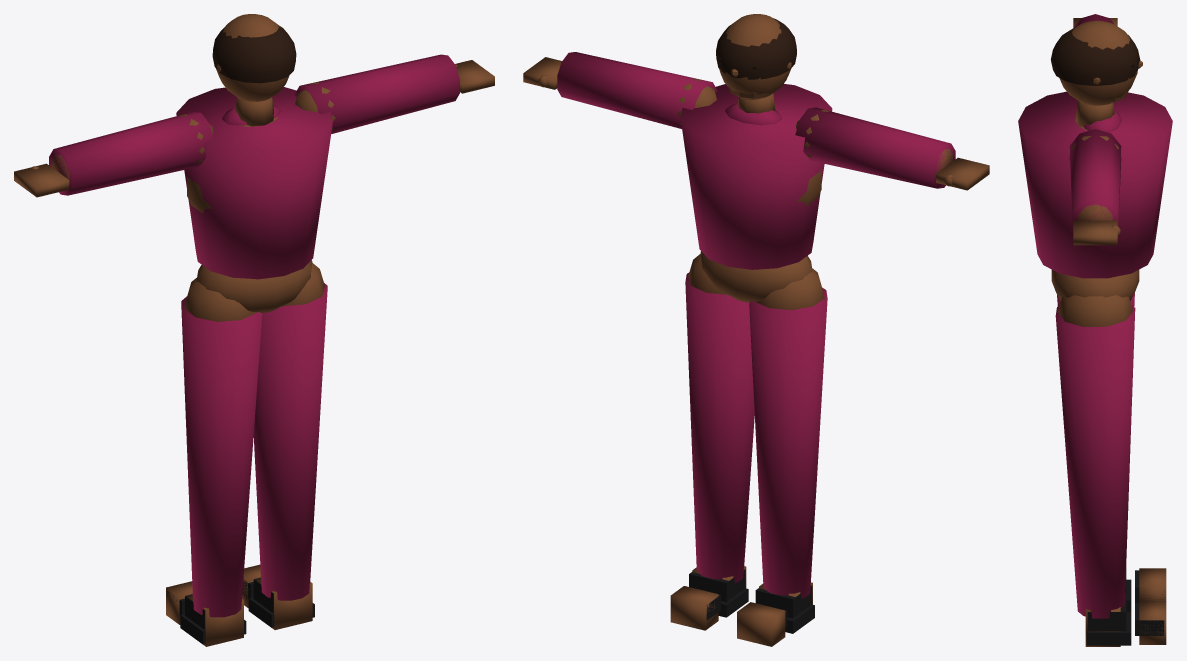
The model's file is Ibrahim.obj.
3 renders of one model, left to right at view 1: azimuth 30°, elevation 25°; view 2: azimuth 150°, elevation 25°; view 3: azimuth 270°, elevation 25°, orthographic. The views are drawn at different scales.
Visible parts, largest first — view 1: Ibrahim, Ibrahim_body, Ibrahim_hair, Ibrahim_shoes; view 2: Ibrahim, Ibrahim_body, Ibrahim_shoes, Ibrahim_hair; view 3: Ibrahim, Ibrahim_body, Ibrahim_hair, Ibrahim_shoes.
Part boxes in pixels (bbox=[...]): Ibrahim: bbox=[49, 54, 459, 617]; Ibrahim_body: bbox=[14, 14, 494, 646]; Ibrahim_hair: bbox=[212, 26, 296, 83]; Ibrahim_shoes: bbox=[167, 577, 314, 644]; Ibrahim: bbox=[557, 52, 955, 598]; Ibrahim_body: bbox=[523, 14, 989, 646]; Ibrahim_shoes: bbox=[689, 569, 814, 633]; Ibrahim_hair: bbox=[716, 18, 796, 79]; Ibrahim: bbox=[1018, 14, 1172, 618]; Ibrahim_body: bbox=[1051, 18, 1166, 646]; Ibrahim_hair: bbox=[1050, 26, 1140, 85]; Ibrahim_shoes: bbox=[1086, 568, 1164, 645].
Size of the model in its own units: 1.34 by 1.71 by 0.4.
